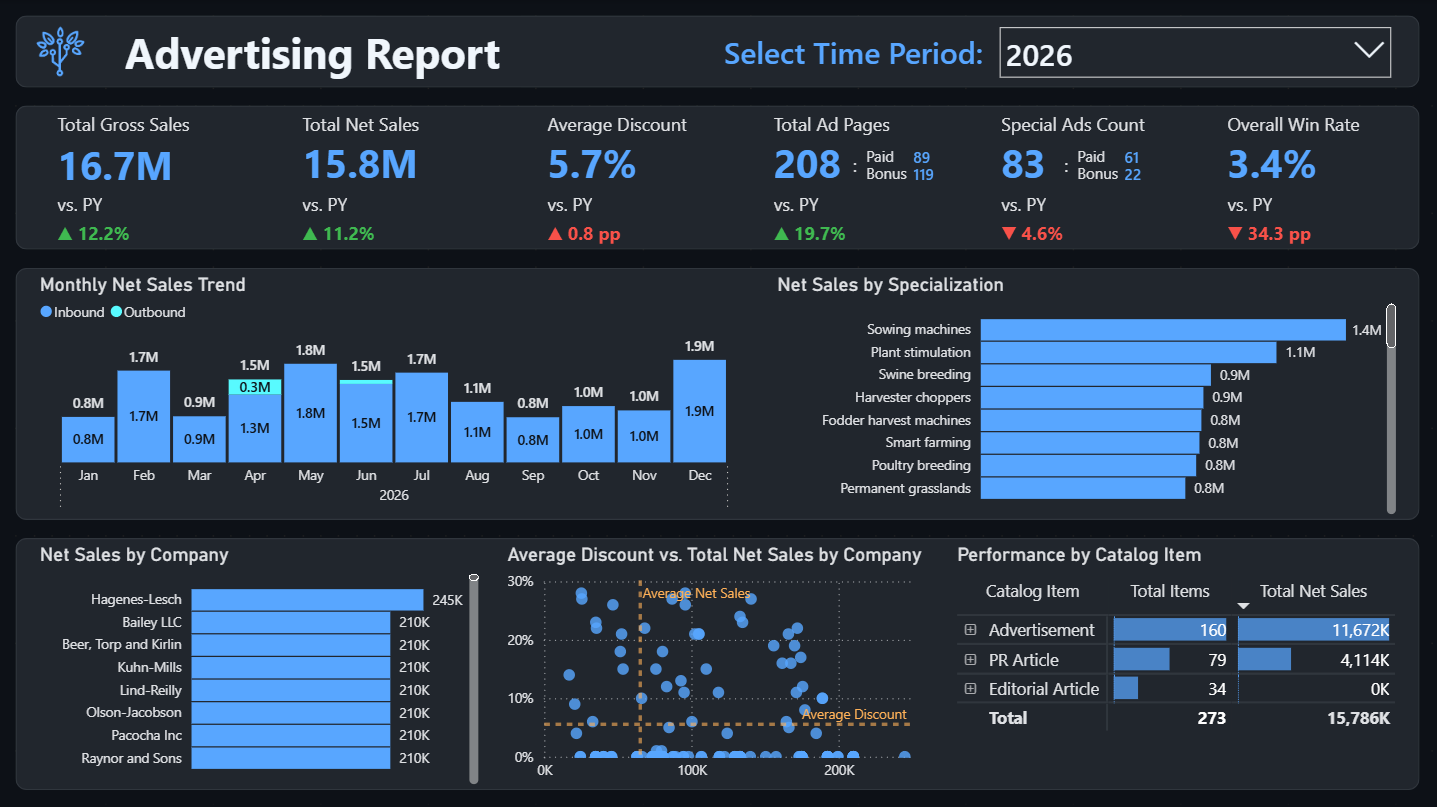

The page's visual inventory and layout, read from the dashboard file:
{"tool":"powerbi","page":{"name":"report","canvas":[1280,720],"ordinal":0},"visuals":[{"type":"shape","box":[16,16,1248,64],"z":0},{"type":"shape","box":[16,96,1248,128],"z":1000},{"type":"shape","box":[16,240,1248,224],"z":2000},{"type":"shape","box":[16,480,1248,224],"z":3000},{"type":"slicer","title":"Select Time Period","fields":{"Values":["dim_calendar.calendar_year","dim_calendar.calendar_month"]},"box":[880,16,368,64],"z":4000,"group":"g1"},{"type":"cardVisual","fields":{"Data":["_measures.total_sales"]},"box":[265.6,96,176,128],"z":4000},{"type":"group","id":"g1","title":"Group 1","box":[624,16,624,64],"z":5000},{"type":"actionButton","box":[624,16,272,64],"z":5000,"group":"g1"},{"type":"group","id":"g2","title":"Group 2","box":[16,16,448,64],"z":6000},{"type":"actionButton","box":[96,16,368,64],"z":6000,"group":"g2"},{"type":"image","box":[16,16,80,64],"z":7000,"group":"g2"},{"type":"cardVisual","fields":{"Data":["_measures.total_gross_sales"]},"box":[48,96,176,128],"z":7000},{"type":"cardVisual","fields":{"Data":["_measures.average_discount"]},"box":[483.2,96,160,128],"z":8000},{"type":"cardVisual","fields":{"Data":["_measures.total_page_ratio"]},"box":[684.8,96,160,128],"z":9000,"group":"g3"},{"type":"cardVisual","fields":{"Data":["_measures.special_advertising_count"]},"box":[886.4,96,160,128],"z":9000,"group":"g4"},{"type":"cardVisual","fields":{"Data":["_measures.win_rate"]},"box":[1088,96,160,128],"z":9000},{"type":"clusteredBarChart","title":"Net Sales by Specialization","fields":{"Category":["dim_specialization.specialization_name"],"Y":["_measures.total_net_sales"]},"box":[688,240,560,224],"z":10000},{"type":"clusteredBarChart","title":"Net Sales by Company","fields":{"Y":["_measures.total_net_sales"],"Category":["dim_company_enriched.company_name"]},"box":[32,480,400,224],"z":11000},{"type":"columnChart","title":"Monthly Net Sales Trend","fields":{"Category":["dim_calendar.calendar_year","dim_calendar.month_name_short"],"Y":["_measures.total_net_sales"],"Series":["fct_sales_performance.contact_direction"]},"box":[32,240,640,224],"z":12000},{"type":"scatterChart","title":"Average Discount vs. Total Net Sales by Company","fields":{"X":["_measures.total_net_sales"],"Y":["_measures.average_discount"],"Category":["dim_company_enriched.company_name"]},"box":[448,480,384,224],"z":13000},{"type":"pivotTable","title":"Performance by Catalog Item","fields":{"Rows":["dim_catalog_item.item_category_name","dim_catalog_item.type_name"],"Values":["_measures.count_items_sold","_measures.total_net_sales"]},"box":[848,480,400,224],"z":14000},{"type":"group","id":"g3","title":"Group 7","box":[684.8,96,229.2,128],"z":15000},{"type":"cardVisual","title":"Page Ratio by Bonus Status","fields":{"Rows":["dim_catalog_item.bonus_status"],"Data":["_measures.total_page_ratio"]},"box":[767,108,160,80],"z":15000,"group":"g5"},{"type":"cardVisual","title":"Page Ratio by Bonus Status","fields":{"Rows":["dim_catalog_item.bonus_status"],"Data":["_measures.count_special_advertising"]},"box":[954,108,160,80],"z":15000,"group":"g6"},{"type":"group","id":"g4","title":"Group 8","box":[886.4,96,227.6,128],"z":16000},{"type":"group","id":"g5","title":"Group 3","box":[738,108,176,80],"z":17000,"group":"g3"},{"type":"group","id":"g6","title":"Group 3","box":[925,108,189,80],"z":17000,"group":"g4"},{"type":"actionButton","box":[738,131,48,32],"z":17001,"group":"g5"},{"type":"actionButton","box":[925,131,48,32],"z":17001,"group":"g6"}]}

Visuals, with their boxes in screenshot pixels (x1, y1, x2, y2), scaled from the page's 1280x720 canvas onto the 1437x807 screenshot:
shape: x1=18, y1=18, x2=1419, y2=90
shape: x1=18, y1=108, x2=1419, y2=251
shape: x1=18, y1=269, x2=1419, y2=520
shape: x1=18, y1=538, x2=1419, y2=789
"Select Time Period" slicer: x1=988, y1=18, x2=1401, y2=90
cardVisual - _measures.total_sales: x1=298, y1=108, x2=496, y2=251
"Group 1" group: x1=701, y1=18, x2=1401, y2=90
actionButton: x1=701, y1=18, x2=1006, y2=90
"Group 2" group: x1=18, y1=18, x2=521, y2=90
actionButton: x1=108, y1=18, x2=521, y2=90
image: x1=18, y1=18, x2=108, y2=90
cardVisual - _measures.total_gross_sales: x1=54, y1=108, x2=251, y2=251
cardVisual - _measures.average_discount: x1=542, y1=108, x2=722, y2=251
cardVisual - _measures.total_page_ratio: x1=769, y1=108, x2=948, y2=251
cardVisual - _measures.special_advertising_count: x1=995, y1=108, x2=1175, y2=251
cardVisual - _measures.win_rate: x1=1221, y1=108, x2=1401, y2=251
"Net Sales by Specialization" clusteredBarChart: x1=772, y1=269, x2=1401, y2=520
"Net Sales by Company" clusteredBarChart: x1=36, y1=538, x2=485, y2=789
"Monthly Net Sales Trend" columnChart: x1=36, y1=269, x2=754, y2=520
"Average Discount vs. Total Net Sales by Company" scatterChart: x1=503, y1=538, x2=934, y2=789
"Performance by Catalog Item" pivotTable: x1=952, y1=538, x2=1401, y2=789
"Group 7" group: x1=769, y1=108, x2=1026, y2=251
"Page Ratio by Bonus Status" cardVisual: x1=861, y1=121, x2=1041, y2=211
"Page Ratio by Bonus Status" cardVisual: x1=1071, y1=121, x2=1251, y2=211
"Group 8" group: x1=995, y1=108, x2=1251, y2=251
"Group 3" group: x1=829, y1=121, x2=1026, y2=211
"Group 3" group: x1=1038, y1=121, x2=1251, y2=211
actionButton: x1=829, y1=147, x2=882, y2=183
actionButton: x1=1038, y1=147, x2=1092, y2=183
